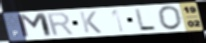1: (111, 10, 125, 32)
K: (78, 10, 104, 34)
L: (133, 8, 158, 31)
M: (16, 12, 55, 39)
O: (156, 5, 184, 31)
R: (45, 11, 76, 38)
